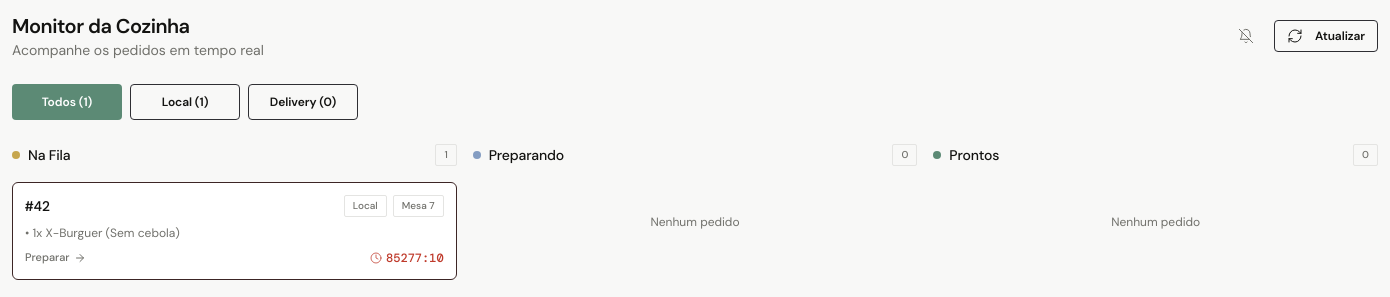
Test: kitchen monitor API cutover › advances with the server response instead of writing directly to Supabase
The width and height of the screenshot is (1390, 297).
Click the button "#42": (365, 206) [12, 182, 457, 280]
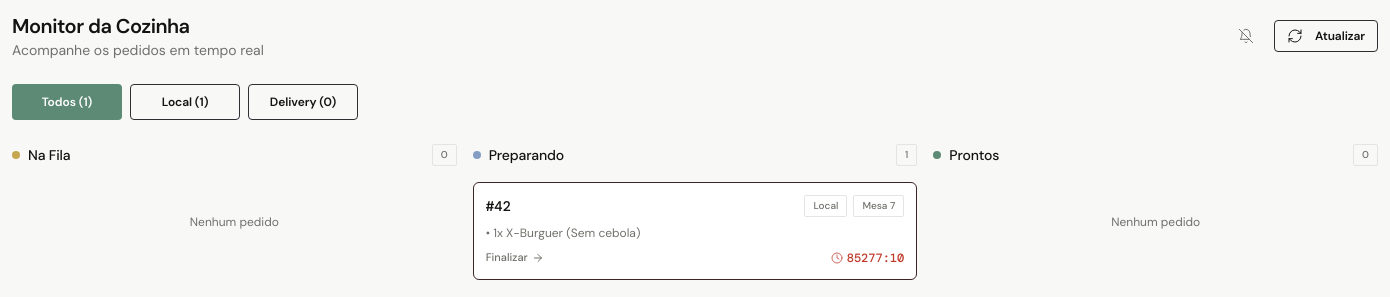
expect the text "Finalizar" is shown: met, box [486, 249, 528, 267]
